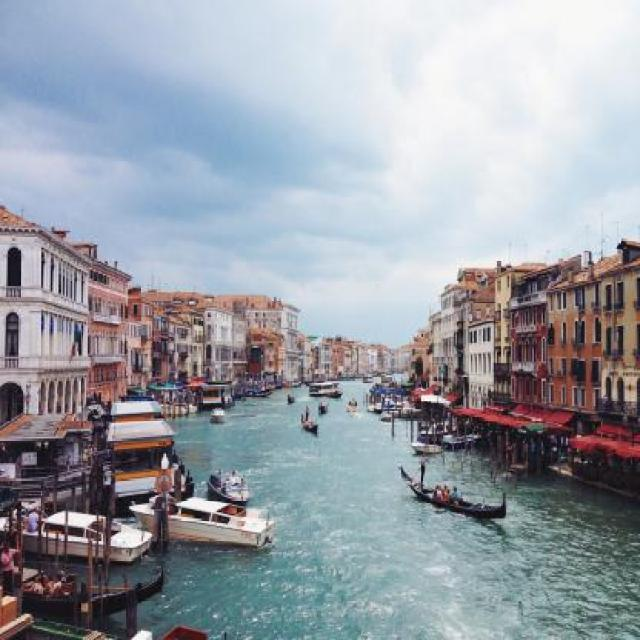ship: (125, 491, 278, 549), (19, 510, 152, 562), (398, 464, 507, 519), (204, 474, 253, 506), (307, 379, 339, 398), (408, 440, 443, 452), (299, 412, 316, 433), (378, 410, 392, 421)
